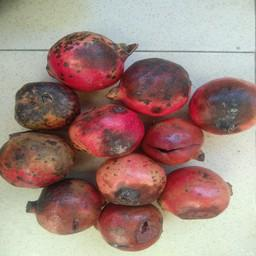Bad_pomegranate: (47, 29, 128, 88), (0, 127, 71, 188), (23, 178, 96, 236), (165, 167, 232, 224), (193, 74, 255, 135), (72, 103, 138, 157), (97, 158, 165, 206), (13, 81, 78, 128), (127, 59, 184, 112), (145, 117, 203, 166), (100, 206, 162, 247)
